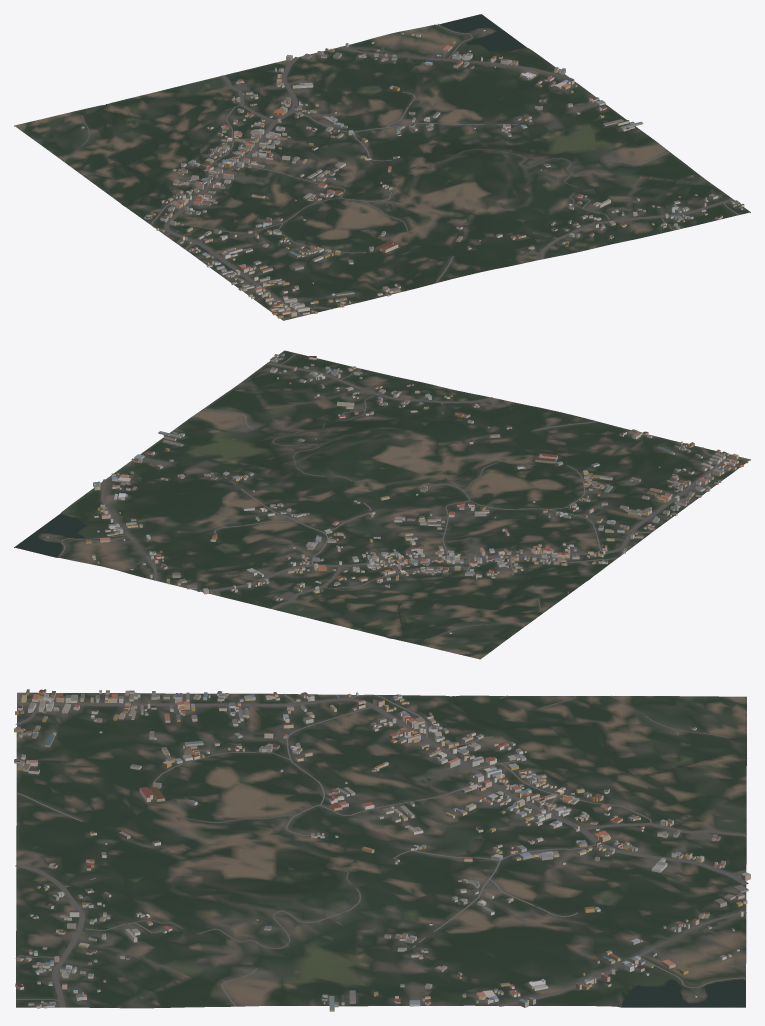
3 views of the same model, one above another, from view 1: azimuth 30°, elevation 25°; view 2: azimuth 150°, elevation 25°; view 3: azimuth 270°, elevation 25° (orthographic). The views are drawn at different scales.
Visible parts, largest first — view 1: ground, buildings, roads, water; view 2: ground, buildings, roads, water; view 3: ground, buildings, roads, water.
Part boxes in pixels (bbox=[...]): ground: bbox=[14, 15, 750, 320]; buildings: bbox=[81, 29, 744, 318]; roads: bbox=[64, 23, 738, 316]; water: bbox=[100, 14, 526, 204]; ground: bbox=[14, 350, 750, 659]; buildings: bbox=[46, 353, 748, 633]; roads: bbox=[57, 353, 732, 640]; water: bbox=[15, 513, 588, 637]; ground: bbox=[16, 692, 746, 1008]; buildings: bbox=[14, 689, 750, 1011]; roads: bbox=[15, 693, 748, 1007]; water: bbox=[452, 696, 746, 1006].
Size of the model in its own units: 1429 by 31.8 by 1415.
